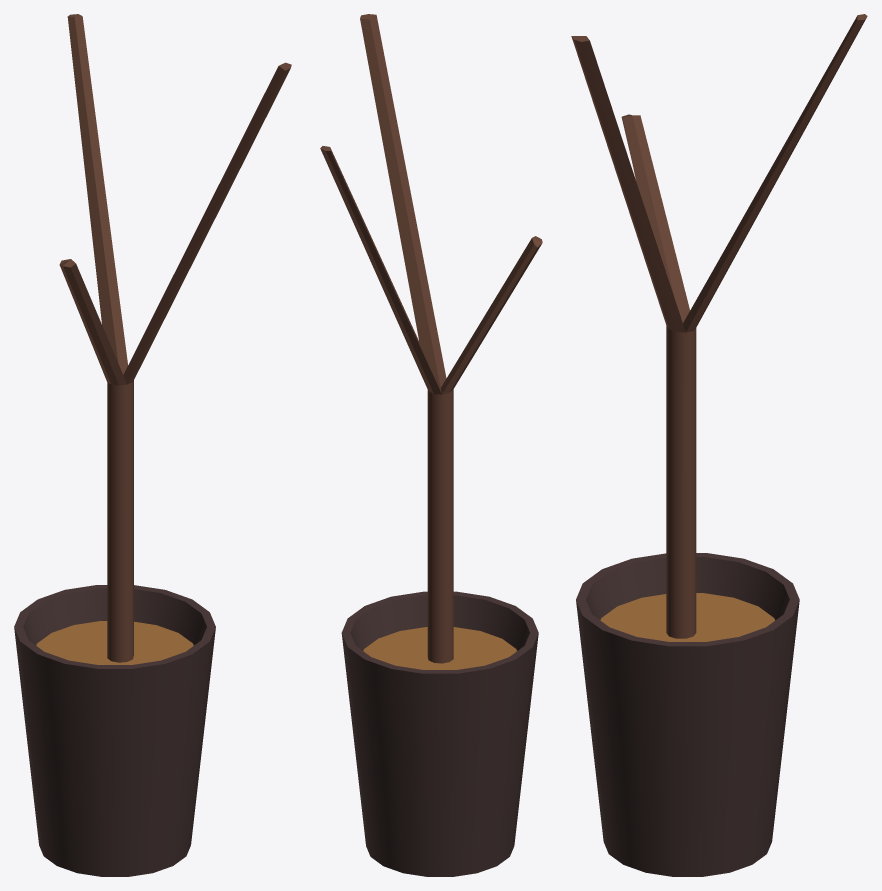
File: pot1.fbx
3 views of the same model, side by side, from view 1: azimuth 30°, elevation 25°; view 2: azimuth 150°, elevation 25°; view 3: azimuth 270°, elevation 25° (orthographic). The views are drawn at different scales.
Visible parts, largest first — view 1: Object197; view 2: Object197; view 3: Object197.
Boxes of the visible parts, x1,y1,x2,y2 form: Object197: (14,14,291,876); Object197: (320,14,542,876); Object197: (571,14,867,876).
Bounding box in the file's own units: 0.6216 × 0.6691 × 2.17.
Materials: 1 (1 with a texture image).
